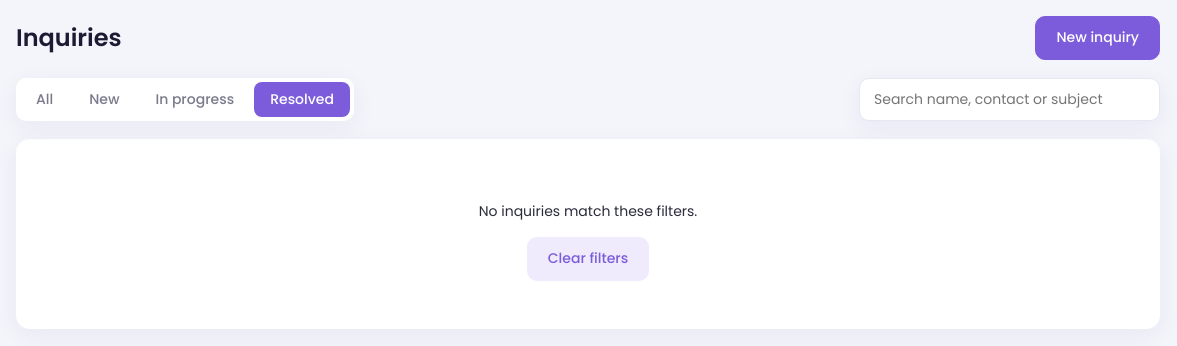
it: InquiryListPage › shows "no matches" with a way to clear filters when a filter finds nothing
Expected: the text "No inquiries match these filters." is shown, left=479, top=201, right=697, bottom=221
Click the button "Clear filters": (588, 259) left=527, top=237, right=649, bottom=281
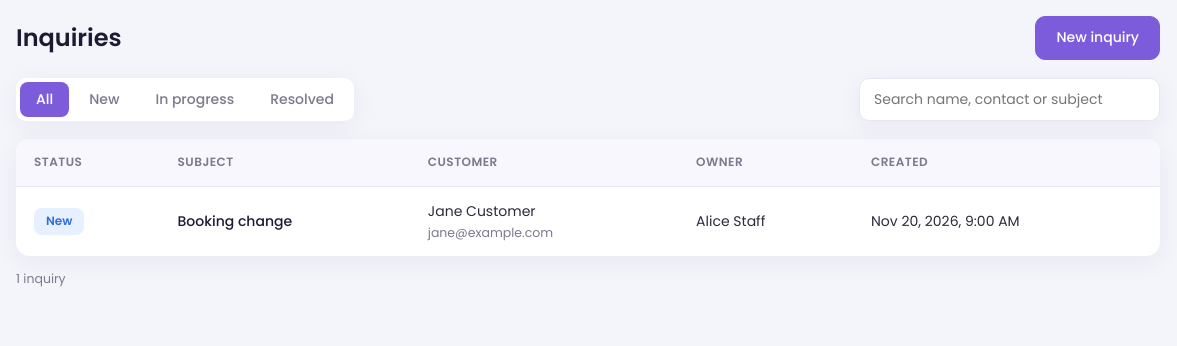
Expected: the link "Booking change" is shown, left=178, top=211, right=292, bottom=231
